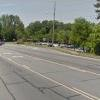Tree: (28, 10, 100, 56)
